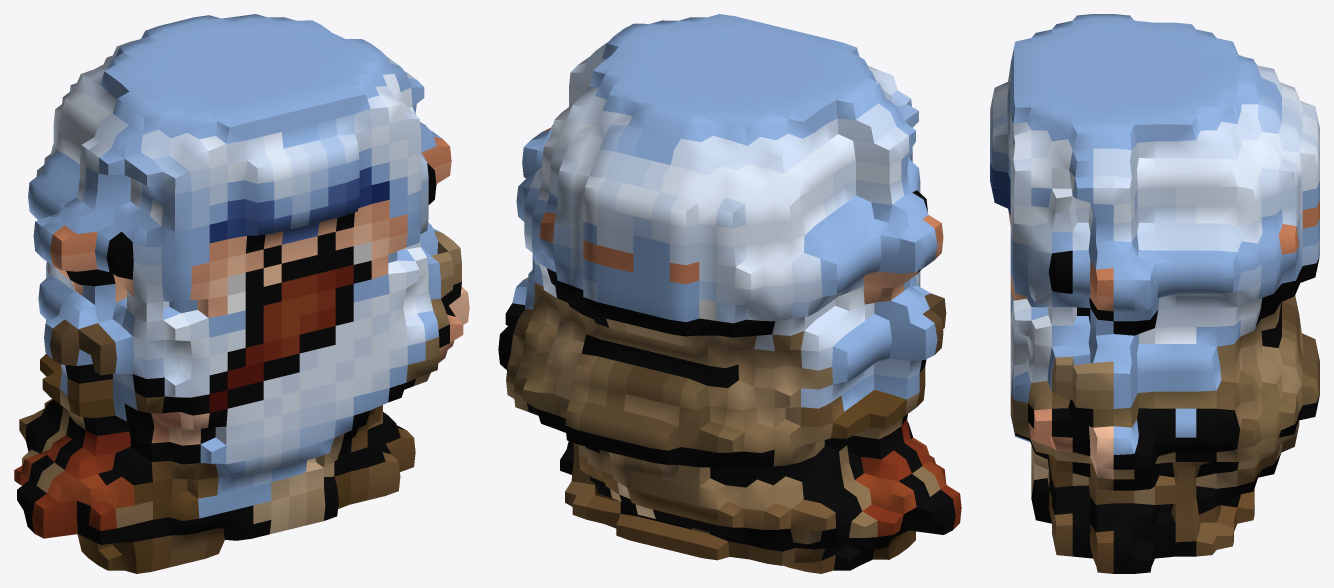
File: Icon_021_03.obj
The picture shows the model from 3 angles, left to right: view 1: azimuth 30°, elevation 25°; view 2: azimuth 150°, elevation 25°; view 3: azimuth 270°, elevation 25°; orthographic projection.
Size of the model in its own units: 2.4 by 2.4 by 1.6.
